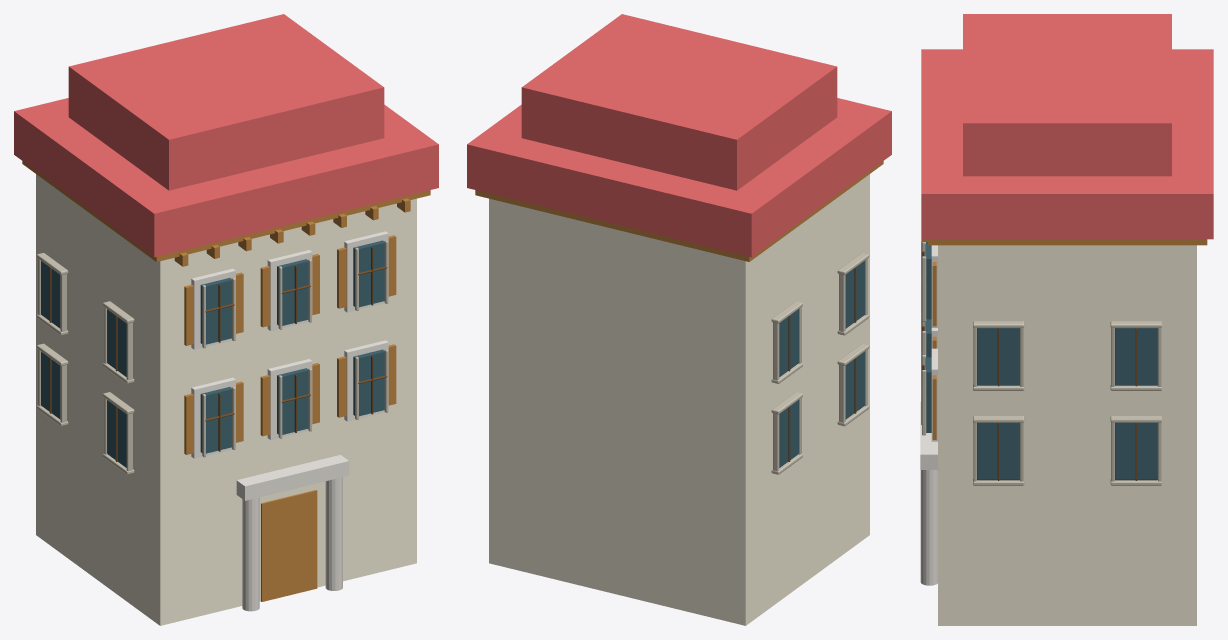
The model's file is city_detail_03.glb.
The picture shows the model from 3 angles, left to right: view 1: azimuth 30°, elevation 25°; view 2: azimuth 150°, elevation 25°; view 3: azimuth 270°, elevation 25°; orthographic projection. The views are drawn at different scales.
Parts seen in each view (by area): view 1: Exterior architecture detail 3; view 2: Exterior architecture detail 3; view 3: Exterior architecture detail 3.
Part boxes in pixels (left/top/right/bottom): Exterior architecture detail 3: left=14, top=14, right=438, bottom=625; Exterior architecture detail 3: left=467, top=14, right=891, bottom=625; Exterior architecture detail 3: left=920, top=14, right=1213, bottom=625.
Bounding box in the file's own units: 8.34 × 13 × 7.02.
